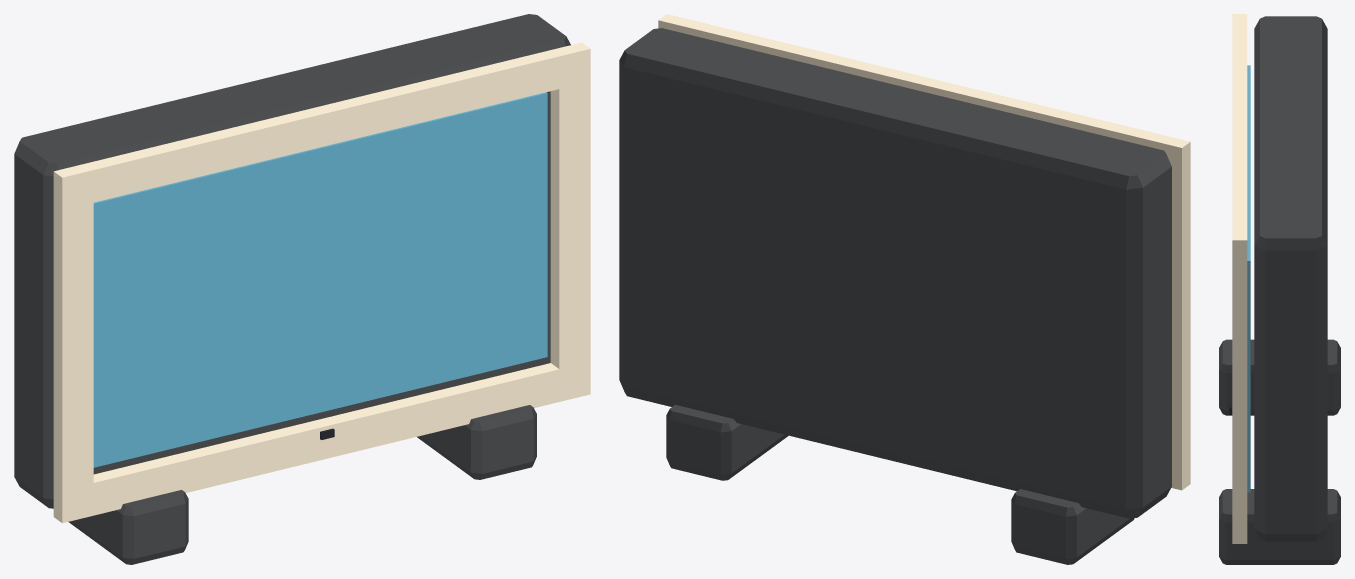
3 renders of one model, left to right at view 1: azimuth 30°, elevation 25°; view 2: azimuth 150°, elevation 25°; view 3: azimuth 270°, elevation 25°, orthographic. The views are drawn at different scales.
Parts seen in each view (by area): view 1: 17-tv__Screen, 17-tv__BlackBack, 17-tv__HorizontalBezel_0.61, 17-tv__HorizontalBezel_0.11, 17-tv__SideBezel_0.41, 17-tv__SideBezel_-0.41, 17-tv__Foot_-0.29, 17-tv__Foot_0.29; view 2: 17-tv__BlackBack, 17-tv__HorizontalBezel_0.61, 17-tv__SideBezel_-0.41, 17-tv__Foot_-0.29, 17-tv__Foot_0.29; view 3: 17-tv__BlackBack, 17-tv__Foot_0.29, 17-tv__SideBezel_0.41, 17-tv__HorizontalBezel_0.61, 17-tv__Foot_-0.29, 17-tv__Screen, 17-tv__HorizontalBezel_0.11.
Part boxes in pixels (x1,y1,x2,y2): 17-tv__Screen: [93, 92, 547, 467]; 17-tv__BlackBack: [14, 14, 570, 508]; 17-tv__HorizontalBezel_0.61: [53, 42, 590, 209]; 17-tv__HorizontalBezel_0.11: [53, 362, 590, 523]; 17-tv__SideBezel_0.41: [550, 42, 590, 401]; 17-tv__SideBezel_-0.41: [53, 165, 93, 522]; 17-tv__Foot_-0.29: [68, 490, 188, 564]; 17-tv__Foot_0.29: [417, 405, 536, 479]; 17-tv__BlackBack: [619, 28, 1171, 518]; 17-tv__HorizontalBezel_0.61: [658, 14, 1190, 180]; 17-tv__SideBezel_-0.41: [1151, 134, 1190, 489]; 17-tv__Foot_-0.29: [1011, 489, 1134, 564]; 17-tv__Foot_0.29: [666, 404, 788, 480]; 17-tv__BlackBack: [1254, 16, 1327, 541]; 17-tv__Foot_0.29: [1219, 489, 1340, 564]; 17-tv__SideBezel_0.41: [1232, 227, 1247, 543]; 17-tv__HorizontalBezel_0.61: [1232, 14, 1247, 269]; 17-tv__Foot_-0.29: [1219, 339, 1340, 415]; 17-tv__Screen: [1247, 65, 1250, 492]; 17-tv__HorizontalBezel_0.11: [1232, 515, 1247, 543].
Size of the model in its own units: 0.88 by 0.635 by 0.2.
